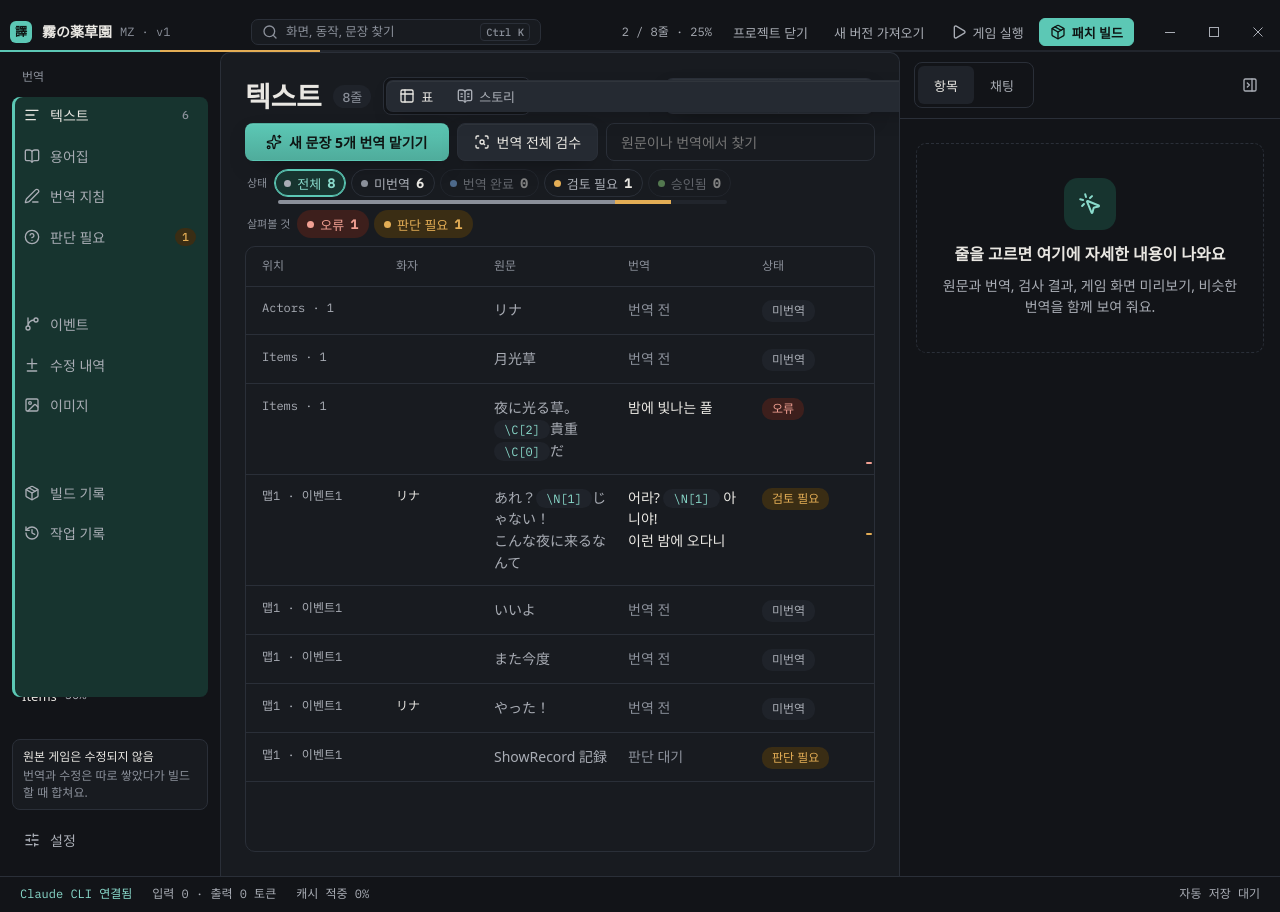
Test: 선택지 두 개가 한 묶음 안에 나란히
Expected: the text "霧の薬草園" is shown, [42,21,112,43]
Click the button "스토리": click(486, 96) [445,81,527,111]
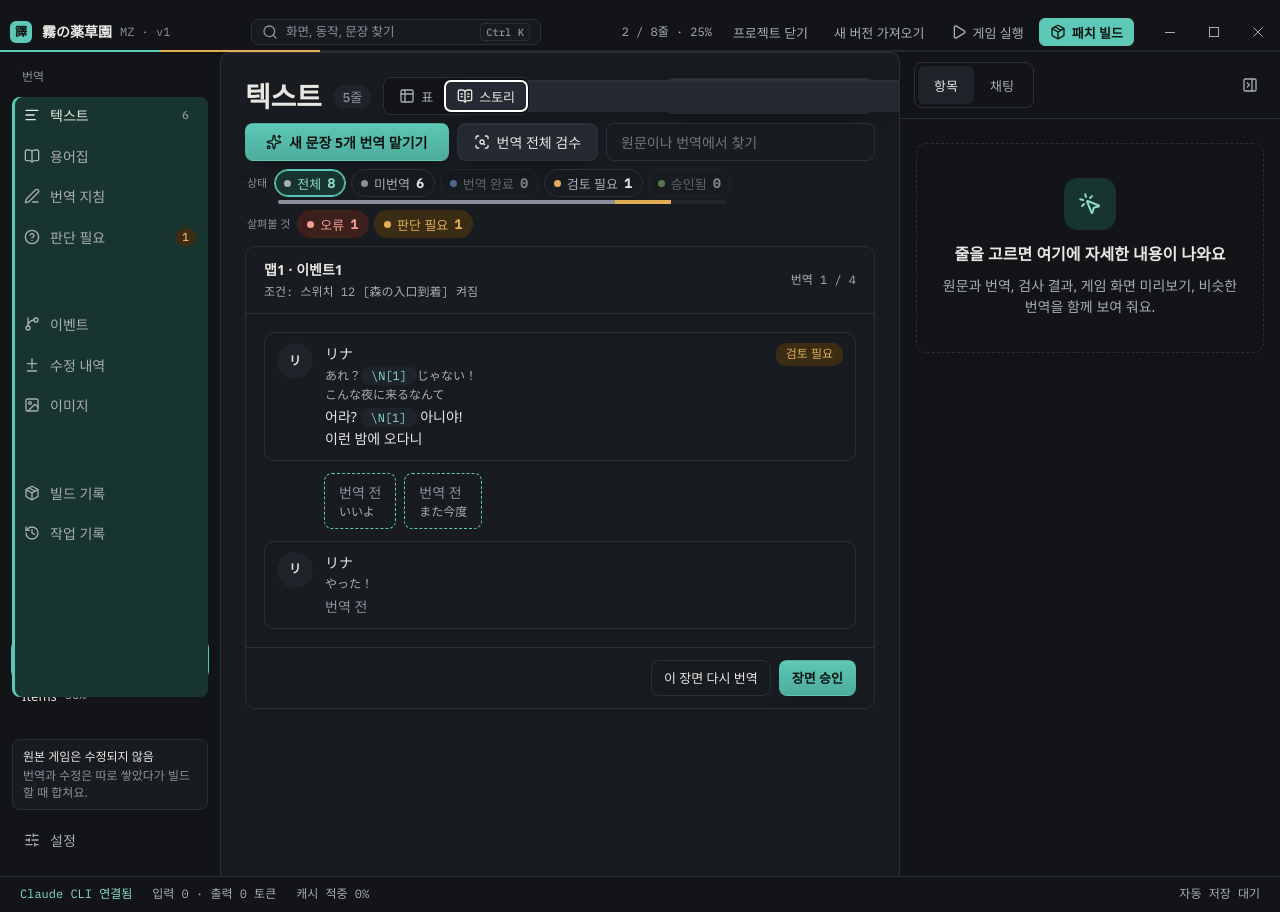
Expected: the text "いいよ" is shown, [324,472,396,528]
Expected: the number of buttons with class "story-choice" is 2, [324,472,396,528]; [404,472,482,528]
